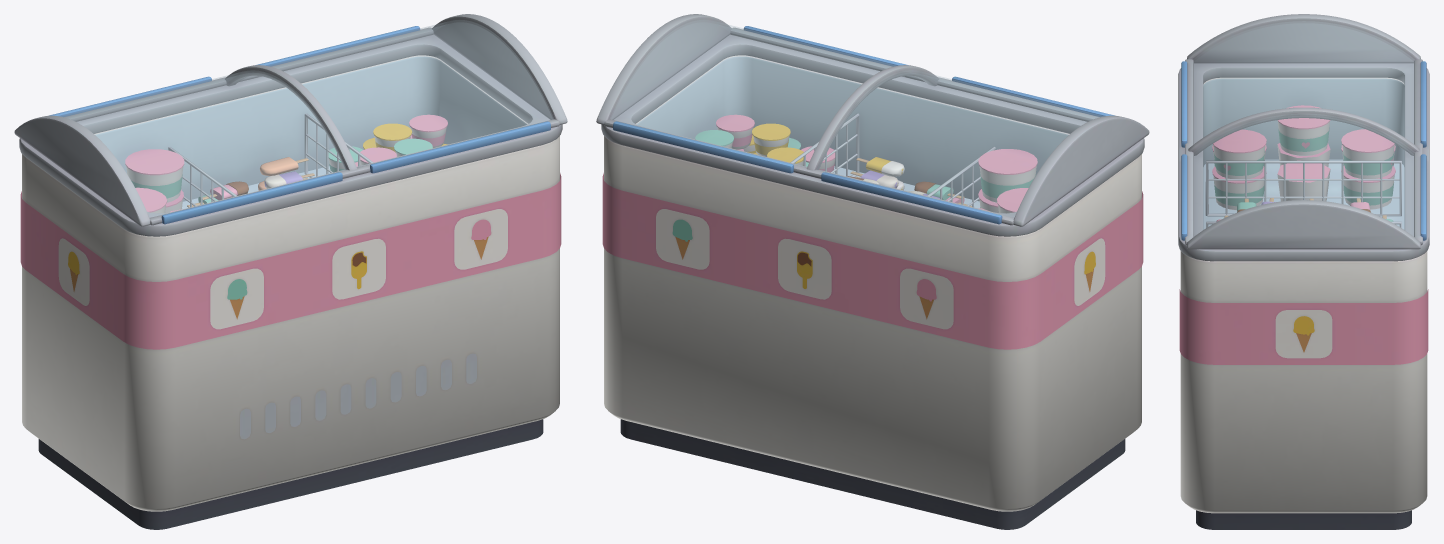
The model's file is ice-cream-freezer.fbx.
The picture shows the model from 3 angles, left to right: view 1: azimuth 30°, elevation 25°; view 2: azimuth 150°, elevation 25°; view 3: azimuth 270°, elevation 25°; orthographic projection. The views are drawn at different scales.
Visible parts, largest first — view 1: ice-cream-freezer_body, ice-cream-freezer_lid_glass; view 2: ice-cream-freezer_body, ice-cream-freezer_lid_glass; view 3: ice-cream-freezer_body, ice-cream-freezer_lid_glass.
Boxes of the visible parts, x1,y1,x2,y2 form: ice-cream-freezer_body: (14, 14, 567, 529); ice-cream-freezer_lid_glass: (60, 20, 553, 217); ice-cream-freezer_body: (596, 14, 1149, 529); ice-cream-freezer_lid_glass: (610, 20, 1103, 217); ice-cream-freezer_body: (1178, 14, 1429, 529); ice-cream-freezer_lid_glass: (1193, 21, 1414, 236).
Bounding box in the file's own units: 1.21 × 0.964 × 0.662.
2 materials, 1 textured.
